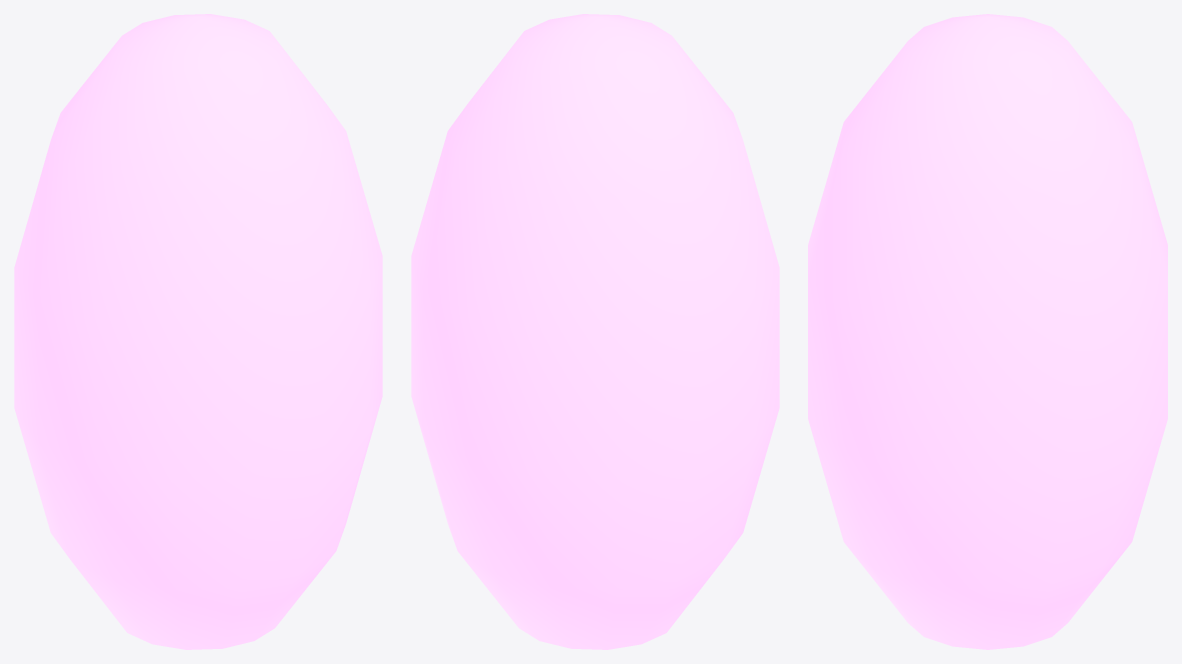
The model's file is leak.glb.
3 views of the same model, side by side, from view 1: azimuth 30°, elevation 25°; view 2: azimuth 150°, elevation 25°; view 3: azimuth 270°, elevation 25° (orthographic).
Visible parts, largest first — view 1: leak; view 2: leak; view 3: leak.
Boxes of the visible parts, x1,y1,x2,y2 form: leak: (14, 14, 382, 649); leak: (411, 14, 779, 649); leak: (808, 14, 1167, 649).
Bounding box in the file's own units: 0.117 × 0.22 × 0.1141.
